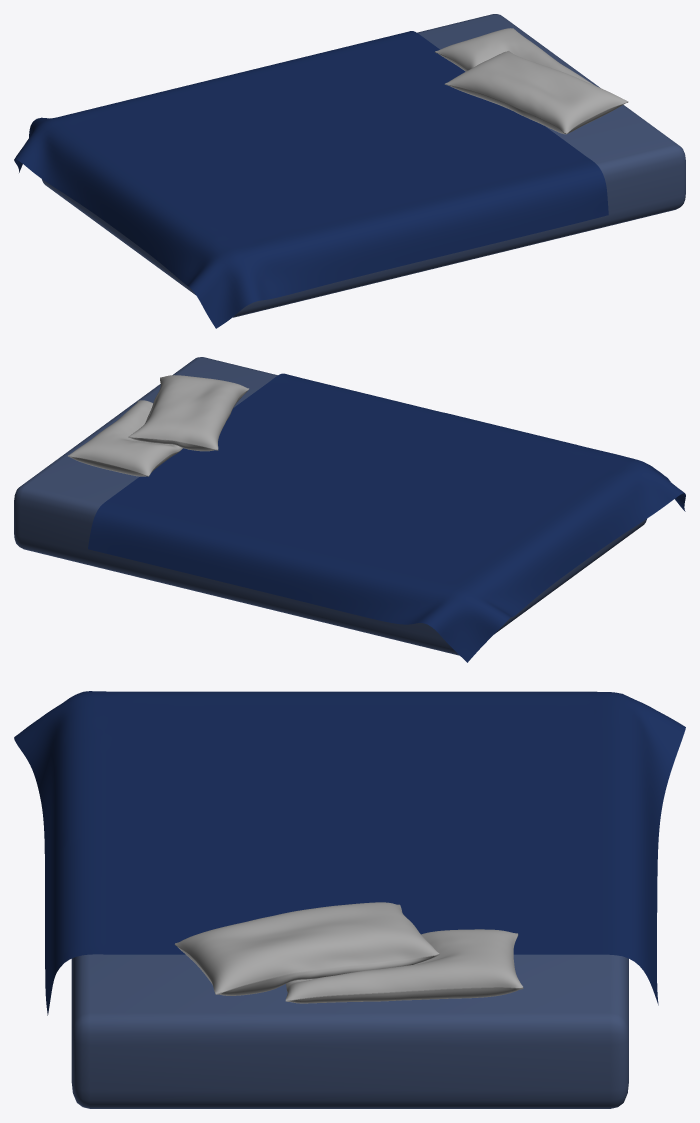
The model's file is bed 2.0.fbx.
The picture shows the model from 3 angles, top to bottom: view 1: azimuth 30°, elevation 25°; view 2: azimuth 150°, elevation 25°; view 3: azimuth 270°, elevation 25°; orthographic projection. The views are drawn at different scales.
Parts seen in each view (by area): view 1: Plane013, body001, Box464, Box463; view 2: Plane013, body001, Box464, Box463; view 3: Plane013, body001, Box464, Box463.
Part boxes in pixels (left/top/right/bottom): Plane013: left=14, top=31, right=608, bottom=328; body001: left=42, top=14, right=685, bottom=317; Box464: left=444, top=50, right=628, bottom=134; Box463: left=435, top=28, right=595, bottom=85; Plane013: left=88, top=373, right=685, bottom=662; body001: left=14, top=357, right=646, bottom=655; Box464: left=128, top=375, right=249, bottom=451; Box463: left=67, top=400, right=182, bottom=476; Plane013: left=14, top=691, right=685, bottom=1015; body001: left=71, top=954, right=628, bottom=1108; Box464: left=174, top=902, right=439, bottom=995; Box463: left=285, top=929, right=523, bottom=1003.
Bounding box in the file's own units: 44.22 × 7.93 × 35.26.
